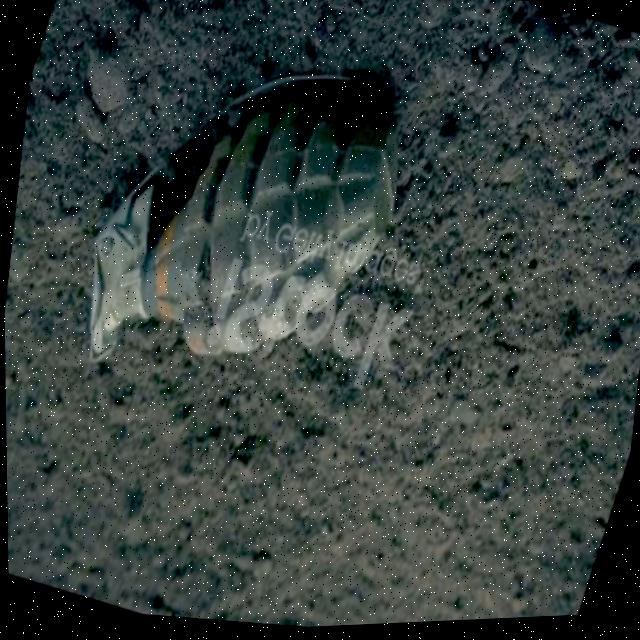grenade: (43, 0, 451, 460)
